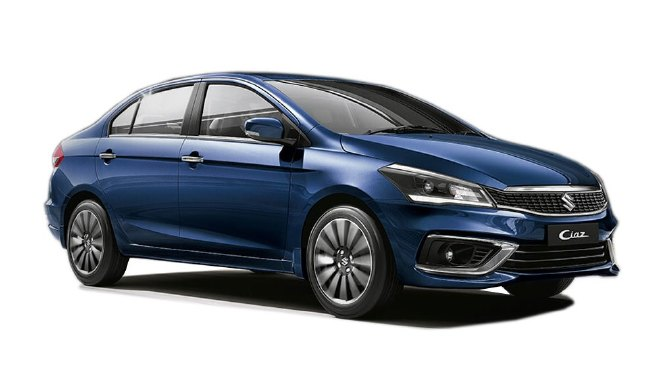Car: (40, 65, 632, 328)
